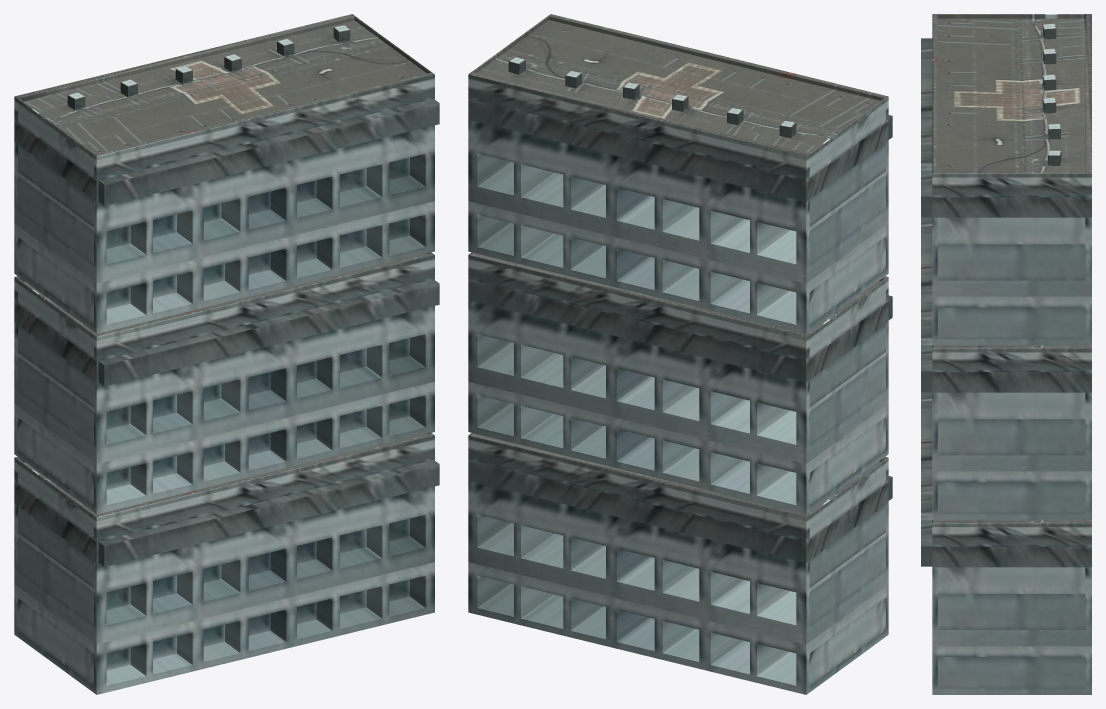
The picture shows the model from 3 angles, left to right: view 1: azimuth 30°, elevation 25°; view 2: azimuth 150°, elevation 25°; view 3: azimuth 270°, elevation 25°; orthographic projection. The views are drawn at different scales.
Visible parts, largest first — view 1: hospitalcompleto.007; view 2: hospitalcompleto.007; view 3: hospitalcompleto.007.
Boxes of the visible parts, x1,y1,x2,y2 form: hospitalcompleto.007: (14, 14, 439, 694); hospitalcompleto.007: (468, 14, 892, 694); hospitalcompleto.007: (921, 14, 1091, 694).
Bounding box in the file's own units: 3.29 × 5.07 × 1.49.
3 materials, 3 textured.
